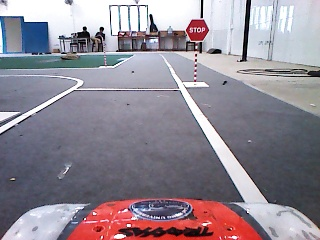stop: (185, 17, 211, 44)
